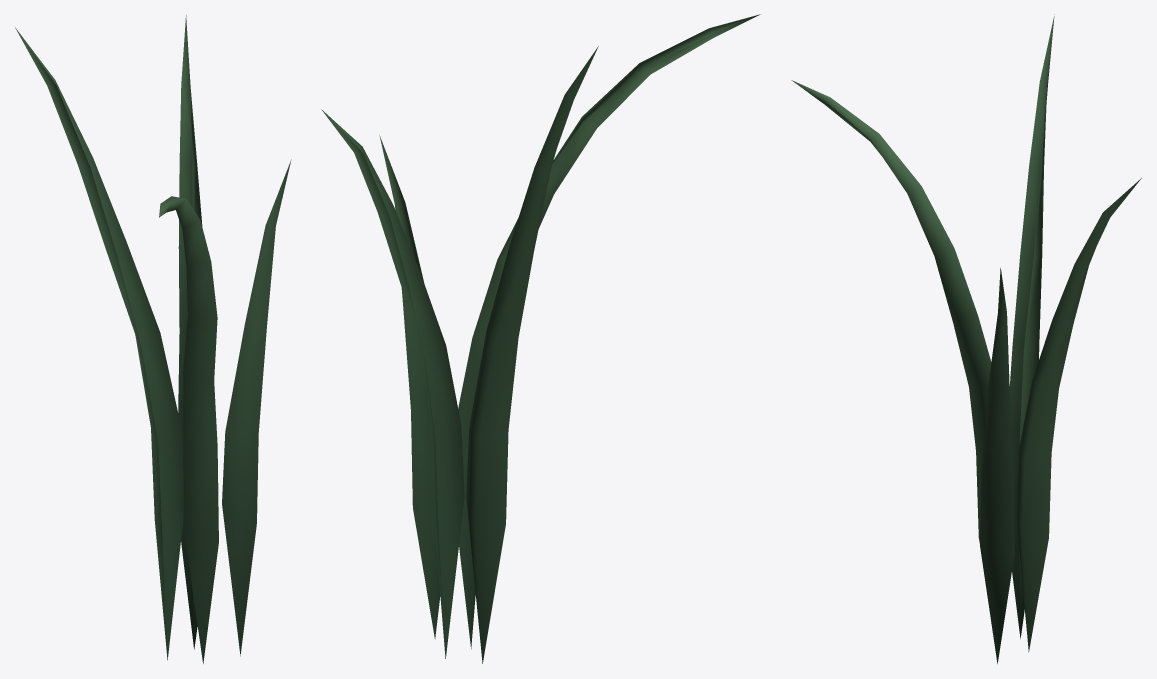
File: trees-grasses-grass-blades_v10.glb
3 views of the same model, side by side, from view 1: azimuth 30°, elevation 25°; view 2: azimuth 150°, elevation 25°; view 3: azimuth 270°, elevation 25° (orthographic). The views are drawn at different scales.
Parts seen in each view (by area): view 1: Grass Blades_v10; view 2: Grass Blades_v10; view 3: Grass Blades_v10.
Boxes of the visible parts, x1,y1,x2,y2 form: Grass Blades_v10: (15, 15, 291, 663); Grass Blades_v10: (321, 14, 760, 663); Grass Blades_v10: (791, 14, 1141, 663).
Bounding box in the file's own units: 0.1217 × 0.3 × 0.1683.
